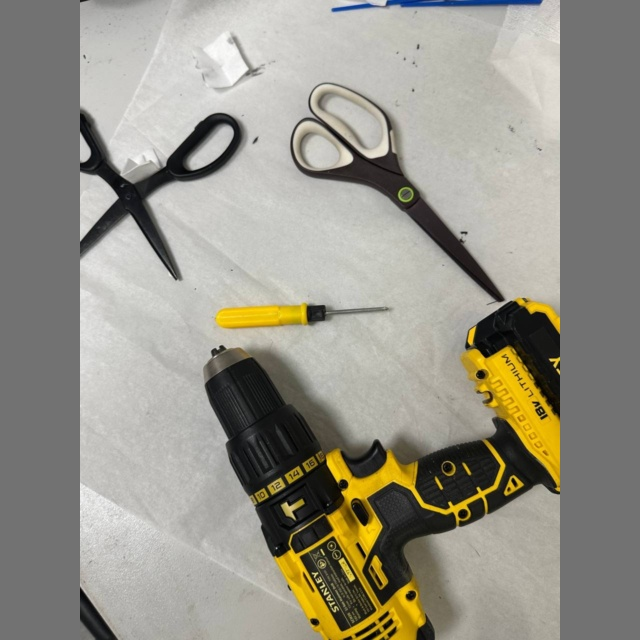drill: (206, 298, 560, 640)
scissor: (291, 83, 503, 301), (80, 112, 241, 280)
screwdriver: (215, 303, 389, 328)
